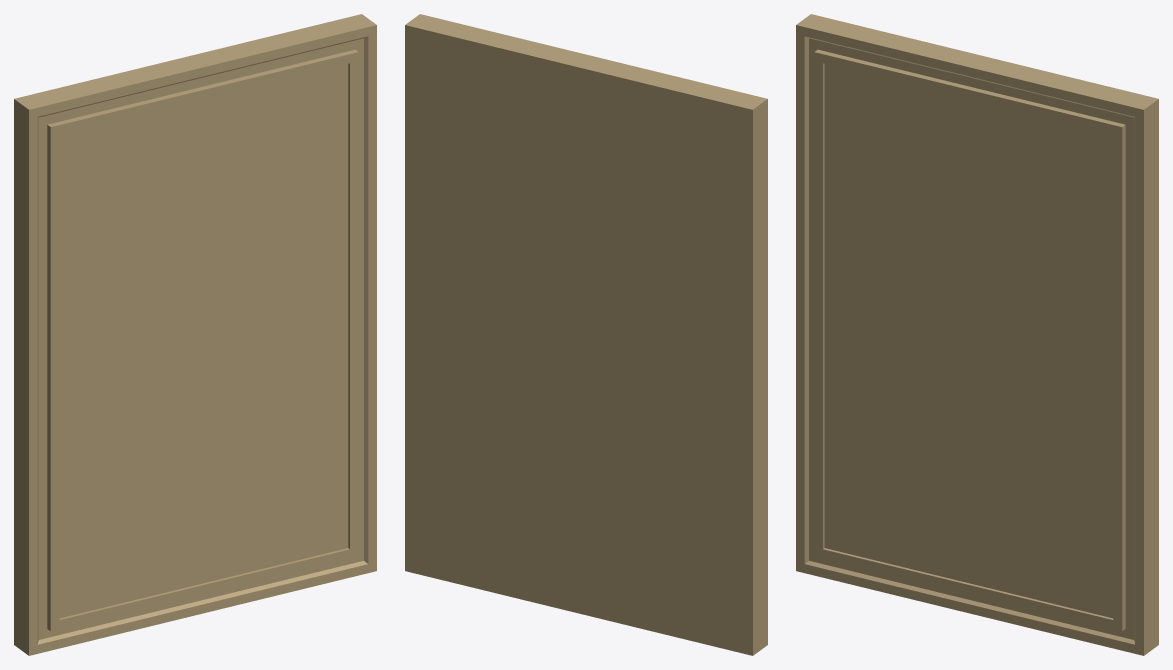
File: Roof with light.fbx
3 renders of one model, left to right at view 1: azimuth 30°, elevation 25°; view 2: azimuth 150°, elevation 25°; view 3: azimuth 330°, elevation 25°, orthographic.
Parts seen in each view (by area): view 1: Roof with light; view 2: Roof with light; view 3: Roof with light.
Part boxes in pixels (x1=…): Roof with light: x1=14, y1=14, x2=376, y2=655; Roof with light: x1=405, y1=14, x2=767, y2=655; Roof with light: x1=796, y1=14, x2=1158, y2=655.
Bounding box in the file's own units: 200 × 300 × 16.71.
